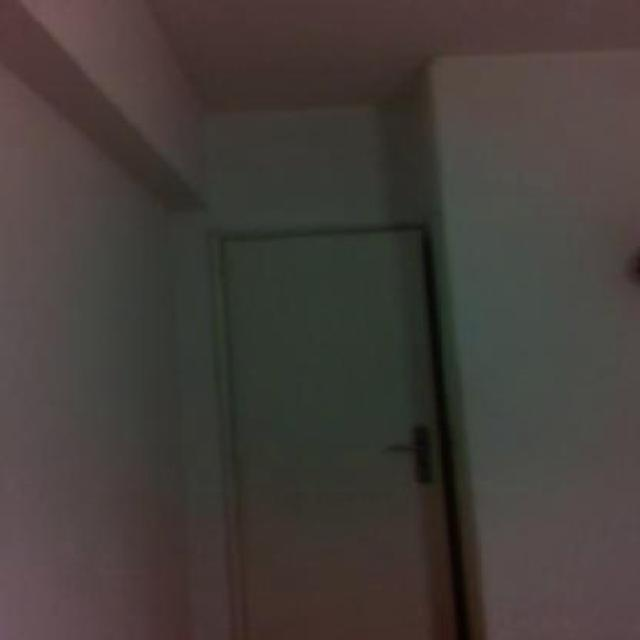door: (208, 220, 472, 638)
